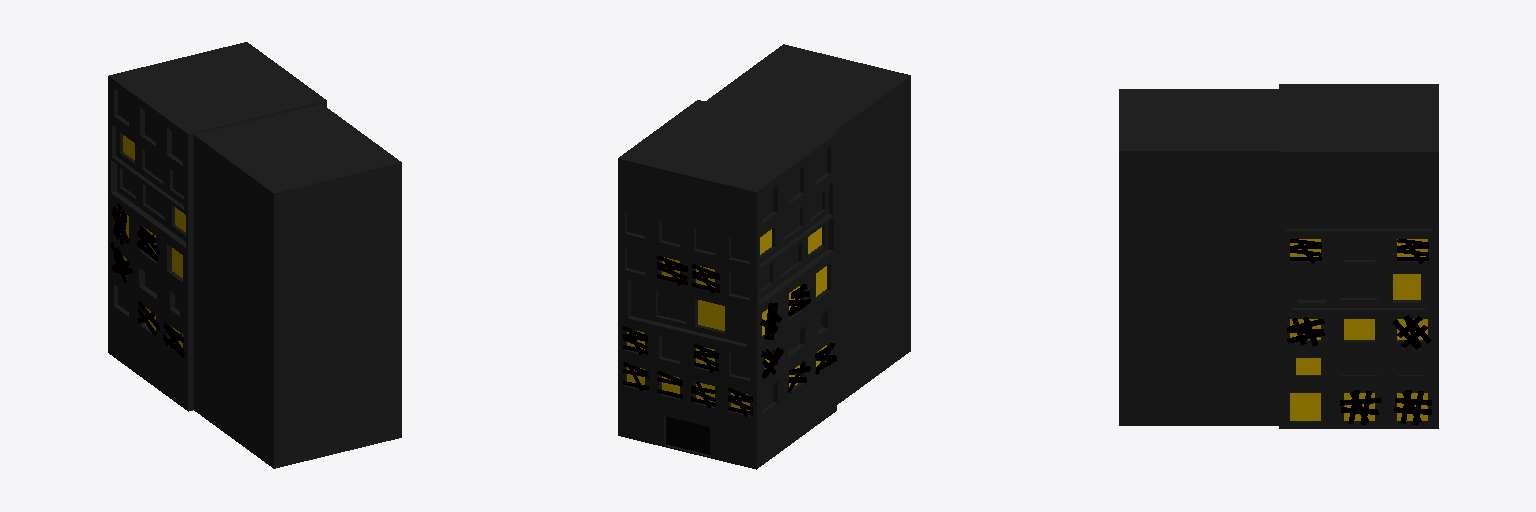
The model's file is Boarded-Tall-Buildings.obj.
The picture shows the model from 3 angles: view 1: azimuth 30°, elevation 25°; view 2: azimuth 150°, elevation 25°; view 3: azimuth 270°, elevation 25°; orthographic projection.
Visible parts, largest first — view 1: Cube.053_Cube.089, Cube.052_Cube.088; view 2: Cube.052_Cube.088, Cube.053_Cube.089, Plane.038_Plane.060; view 3: Cube.053_Cube.089, Cube.052_Cube.088, Cube.056_Cube.092, Cube.057_Cube.093, Cube.054_Cube.090, Cube.055_Cube.091, Plane.044_Plane.068, Plane.045_Plane.069.
Boxes of the visible parts, box(x1,y1,x2,y2) form: Cube.053_Cube.089: box(194, 104, 401, 468); Cube.052_Cube.088: box(108, 42, 326, 411); Cube.052_Cube.088: box(618, 100, 836, 469); Cube.053_Cube.089: box(705, 44, 910, 404); Plane.038_Plane.060: box(657, 255, 687, 285); Cube.053_Cube.089: box(1119, 89, 1278, 425); Cube.052_Cube.088: box(1279, 84, 1438, 428); Cube.056_Cube.092: box(1339, 390, 1380, 424); Cube.057_Cube.093: box(1394, 390, 1431, 424); Cube.054_Cube.090: box(1287, 317, 1324, 346); Cube.055_Cube.091: box(1393, 315, 1431, 349); Plane.044_Plane.068: box(1397, 239, 1428, 263); Plane.045_Plane.069: box(1290, 239, 1321, 263).
Size of the model in its own units: 12.5 by 22.9 by 24.15.